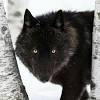Lobo: (18, 1, 68, 95)
